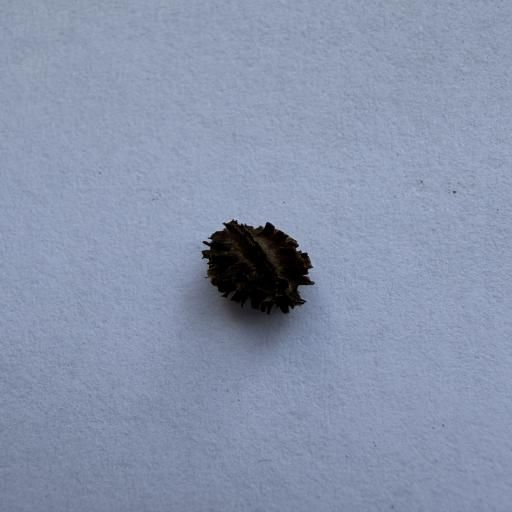papaya_seed: (190, 202, 346, 328)
